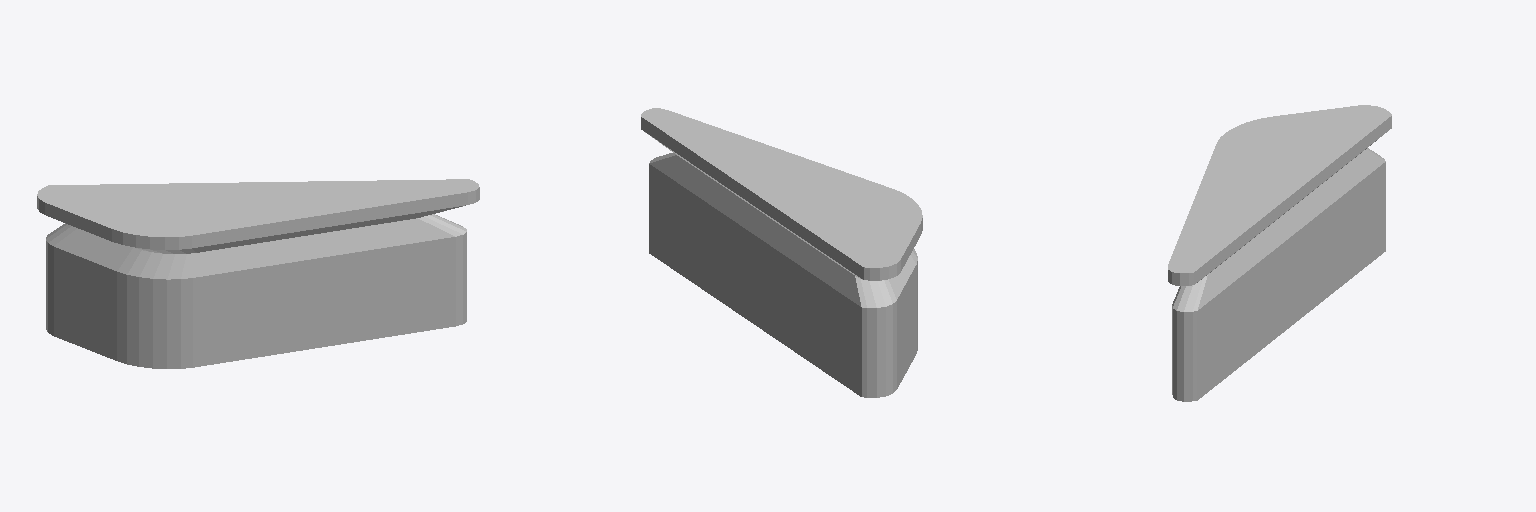
Rendered from fancier_lower_right_bumper.obj.
3 views of the same model, side by side, from view 1: azimuth 30°, elevation 25°; view 2: azimuth 150°, elevation 25°; view 3: azimuth 270°, elevation 25° (orthographic).
Parts seen in each view (by area): view 1: Cube_Cube.003; view 2: Cube_Cube.003; view 3: Cube_Cube.003.
Part boxes in pixels (left/top/right/bottom): Cube_Cube.003: left=37, top=179, right=479, bottom=368; Cube_Cube.003: left=641, top=108, right=922, bottom=397; Cube_Cube.003: left=1168, top=105, right=1391, bottom=401.
Bounding box in the file's own units: 3.35 × 1.24 × 1.89.